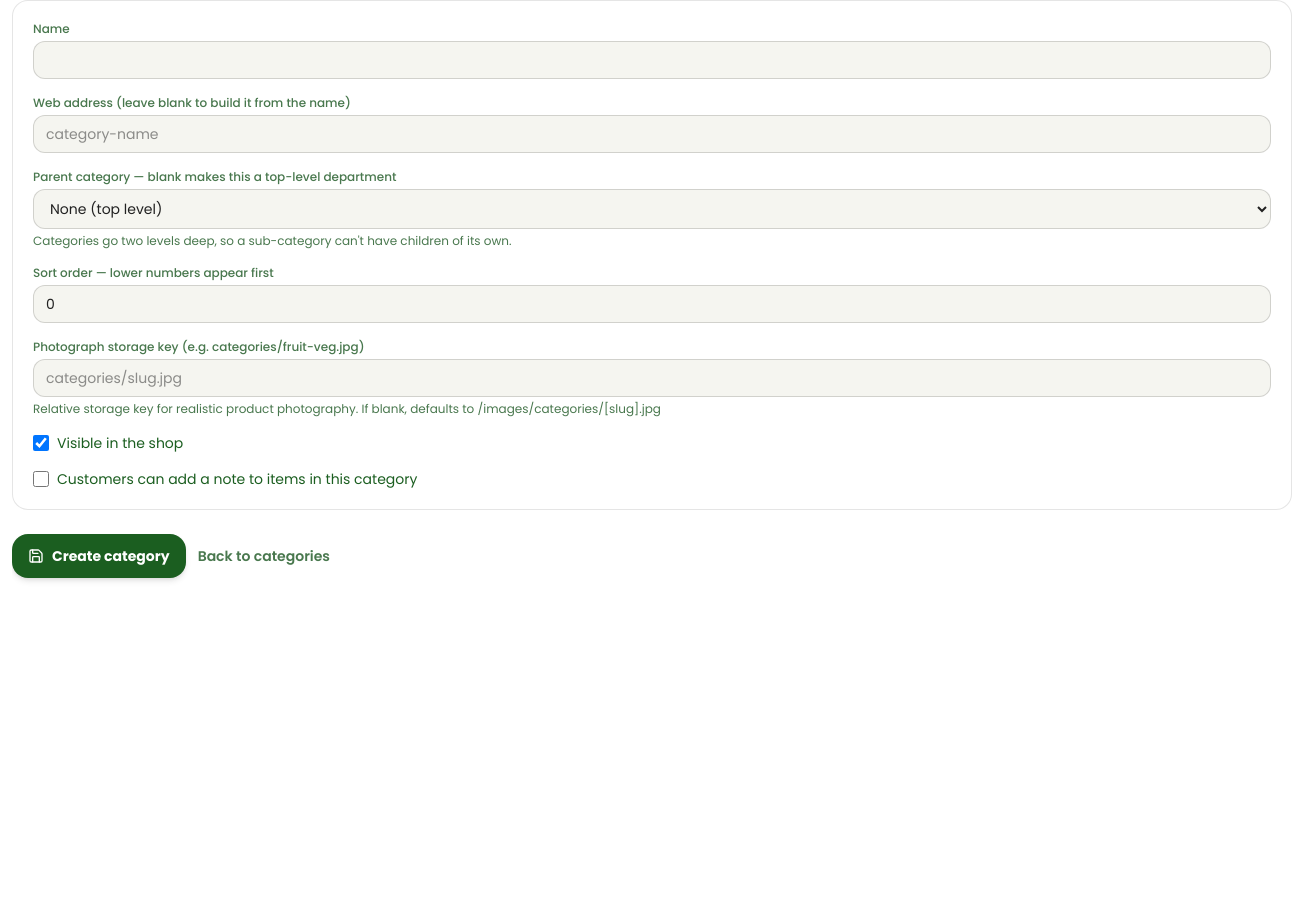
Test: a refused save keeps what was typed (R12) › re-renders the submitted name, web address, parent, sort order and unchecked box
Type "Test" into the field labelled "Name" at {"x": 652, "y": 60}, box [33,41,1271,79]
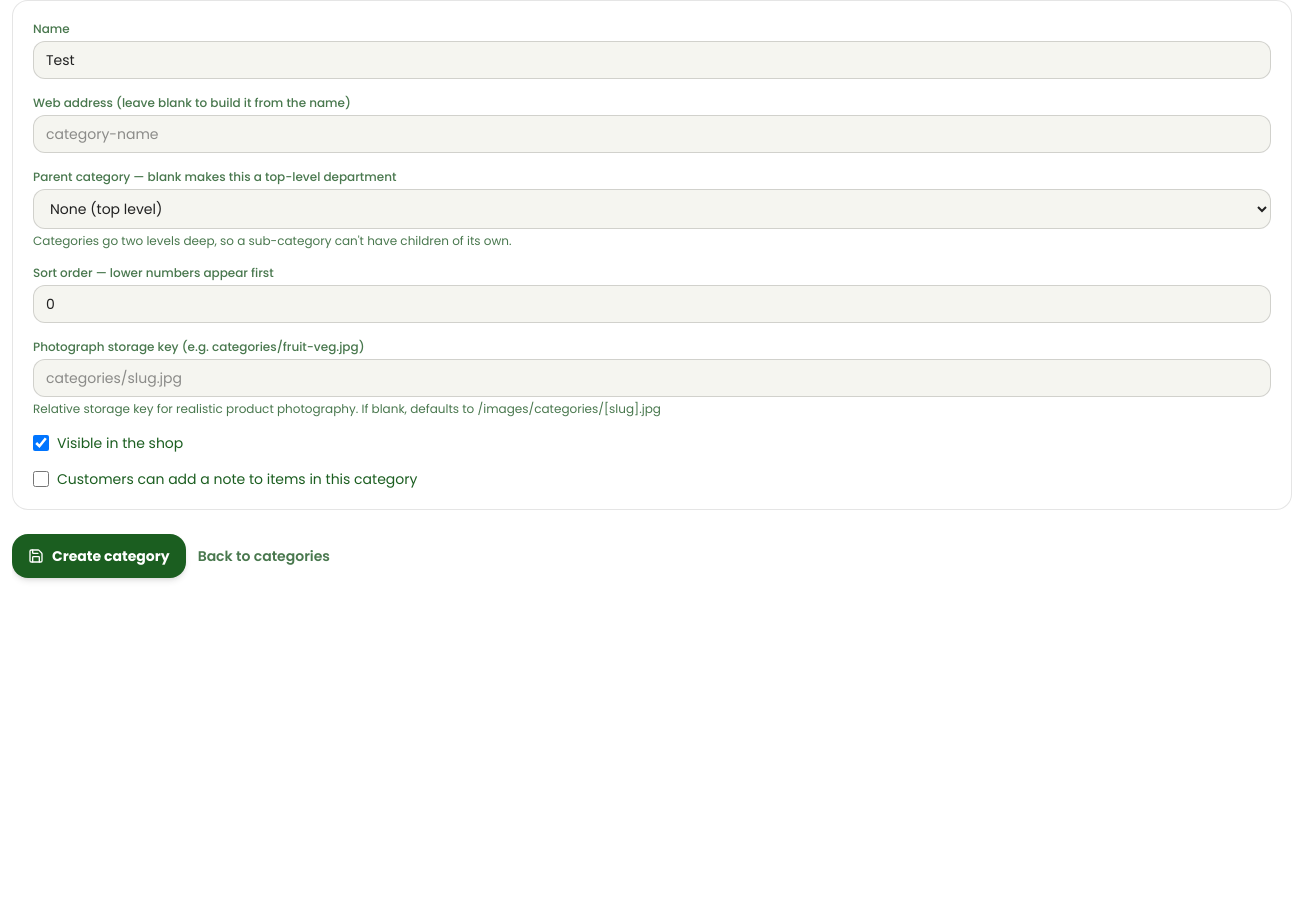
Type "dup" into the field labelled "Web address (leave blank to build it from the name)" at {"x": 652, "y": 134}, box [33,115,1271,153]
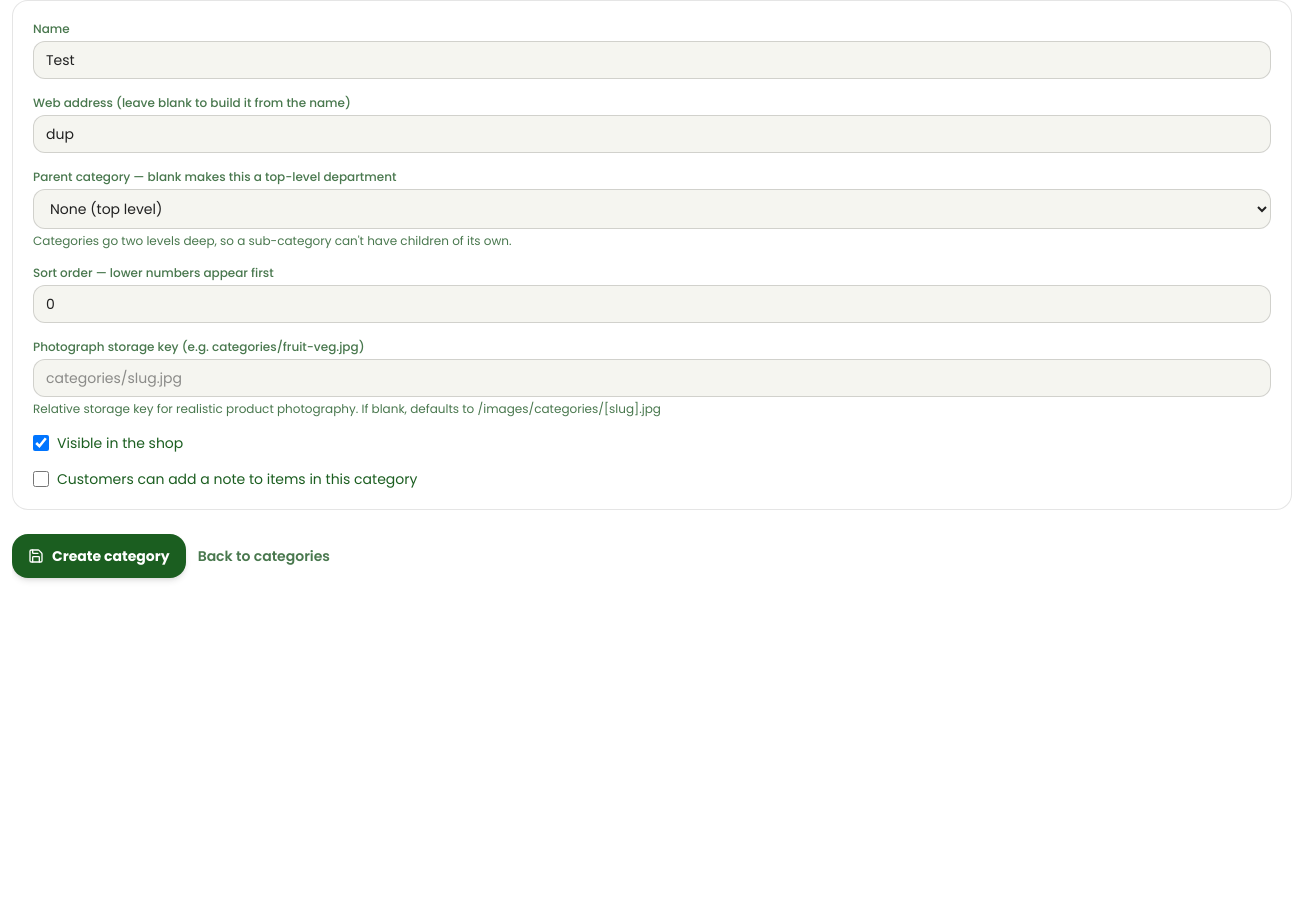
Select "Fruit" in the dropdown labelled "Parent category — blank makes this a top-level department" at {"x": 652, "y": 209}, box [33,189,1271,229]
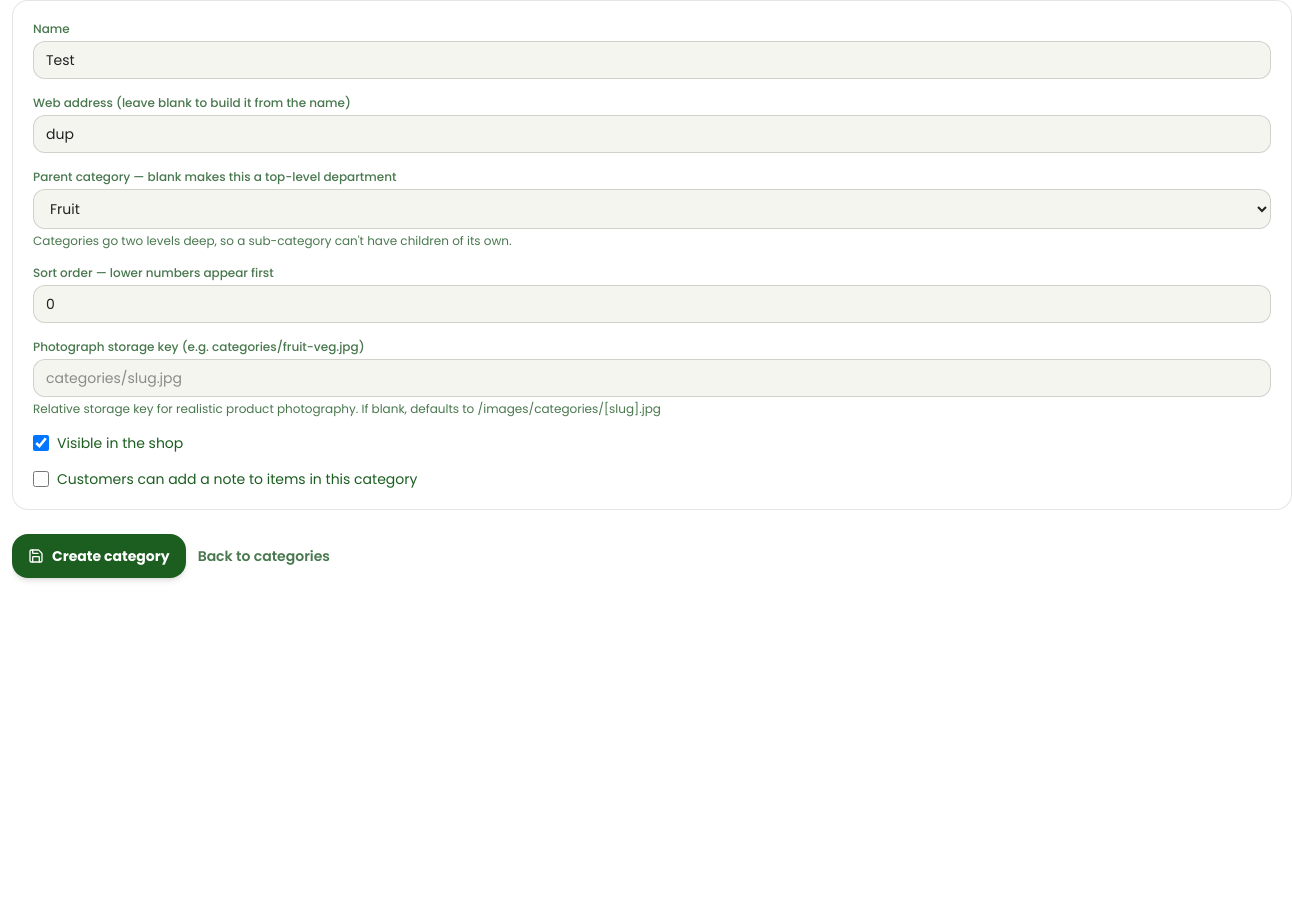
Replace the text in the number field labelled "Sort order — lower numbers appear first" with "4" at {"x": 652, "y": 304}, box [33,285,1271,323]
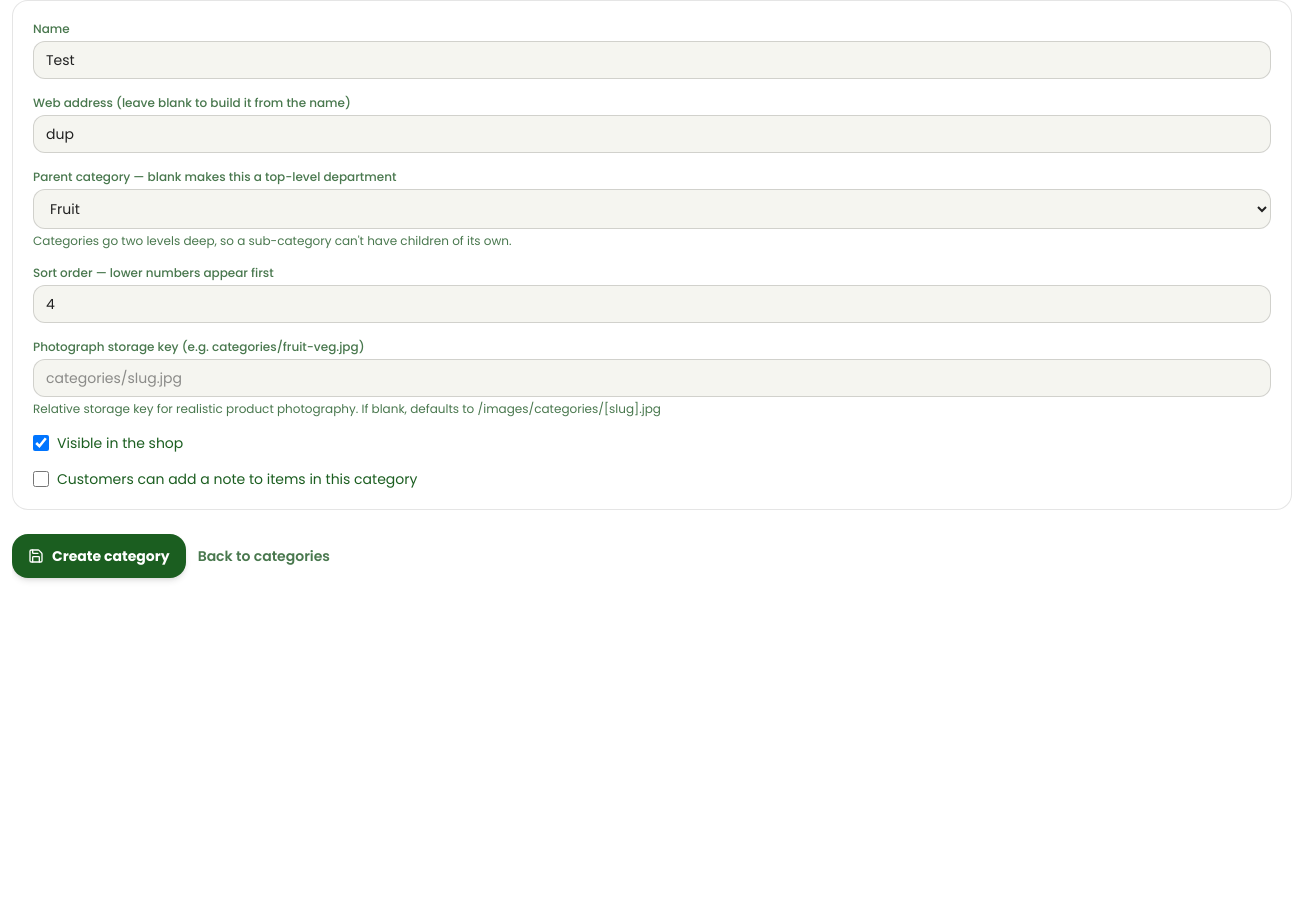
Click the checkbox labelled "Visible in the shop" at {"x": 41, "y": 443}, box [33,435,49,451]
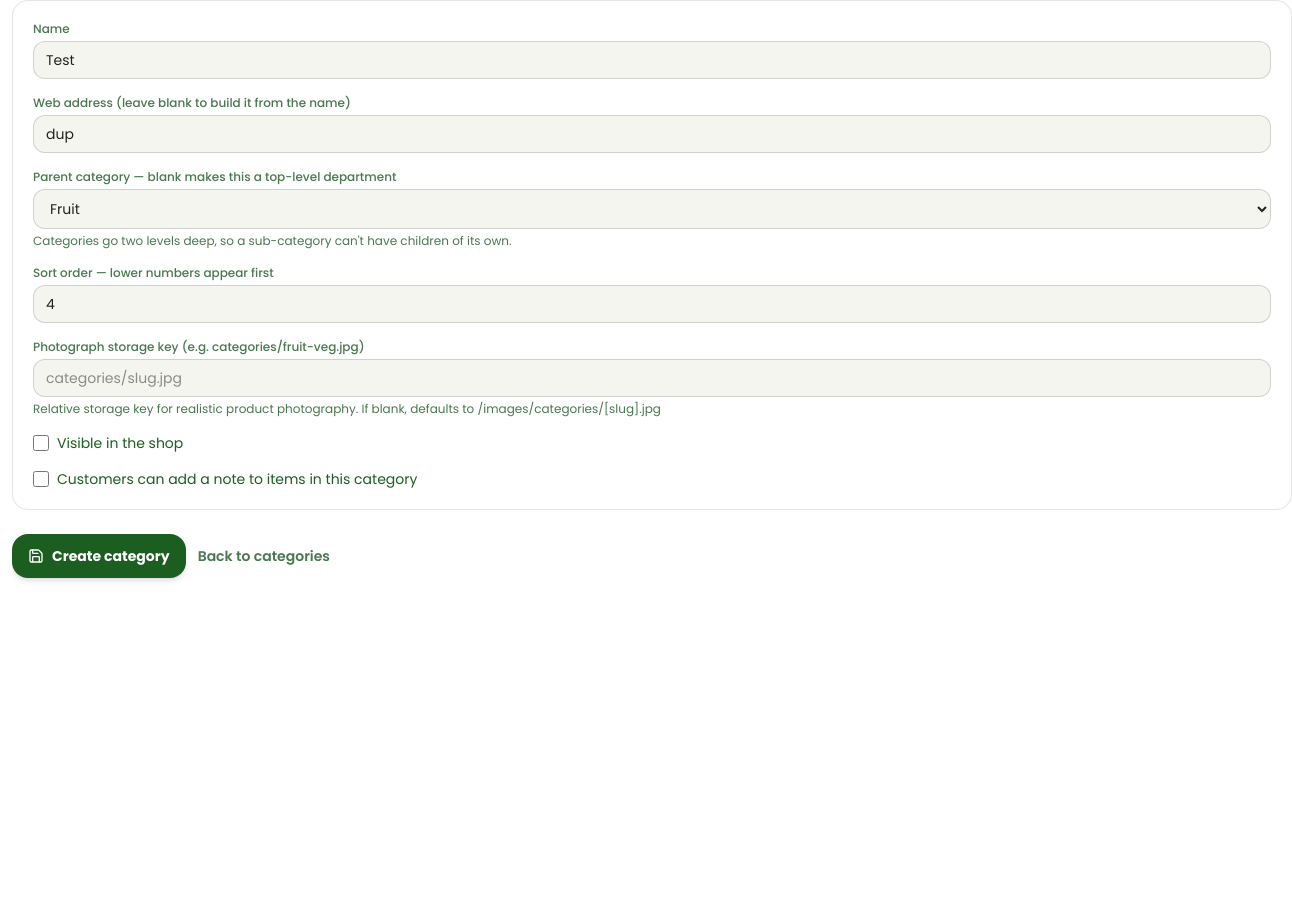
Submit the form
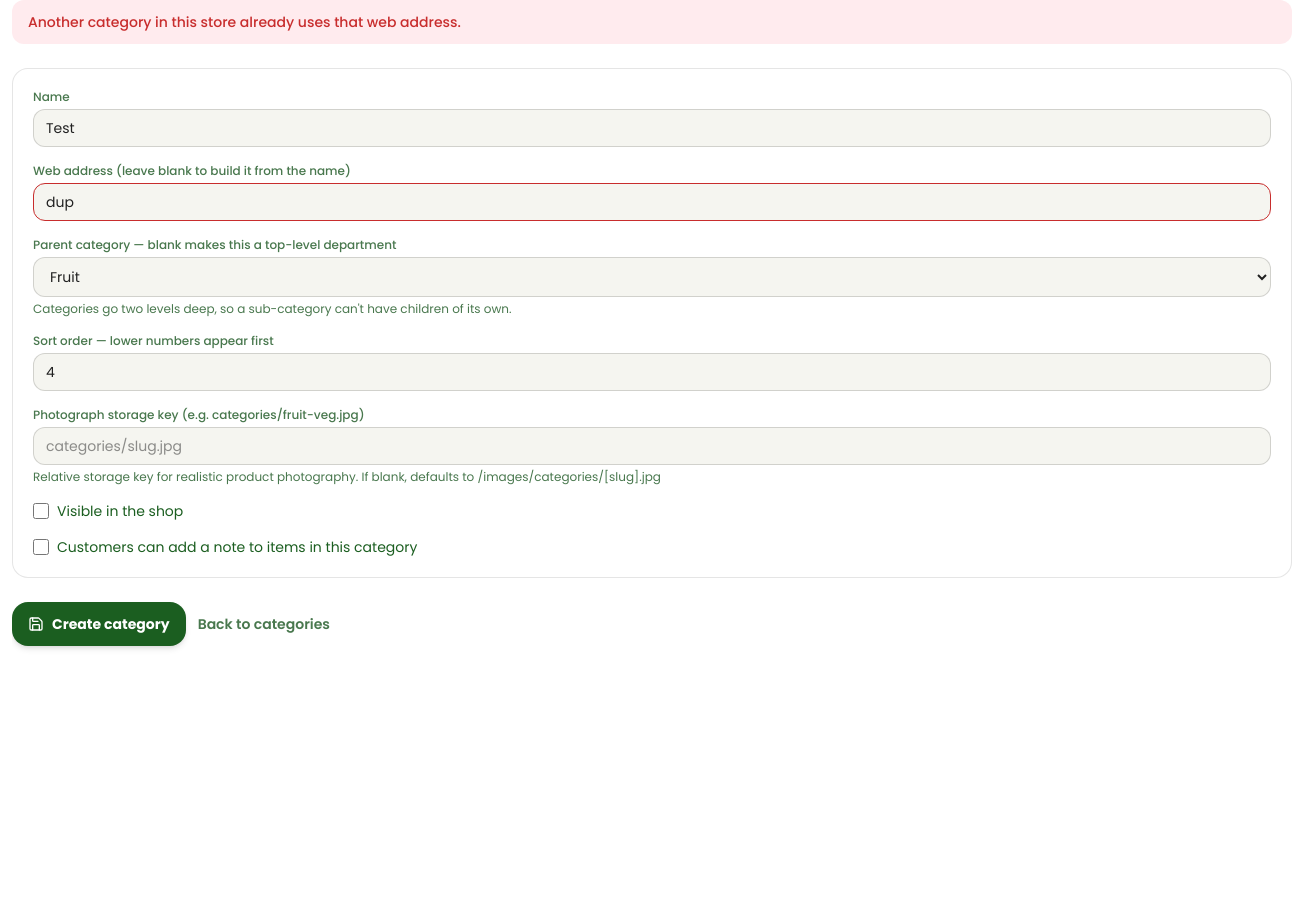
Expected: the message reads "Another category in this store already uses that web address.", [28,12,461,32]
